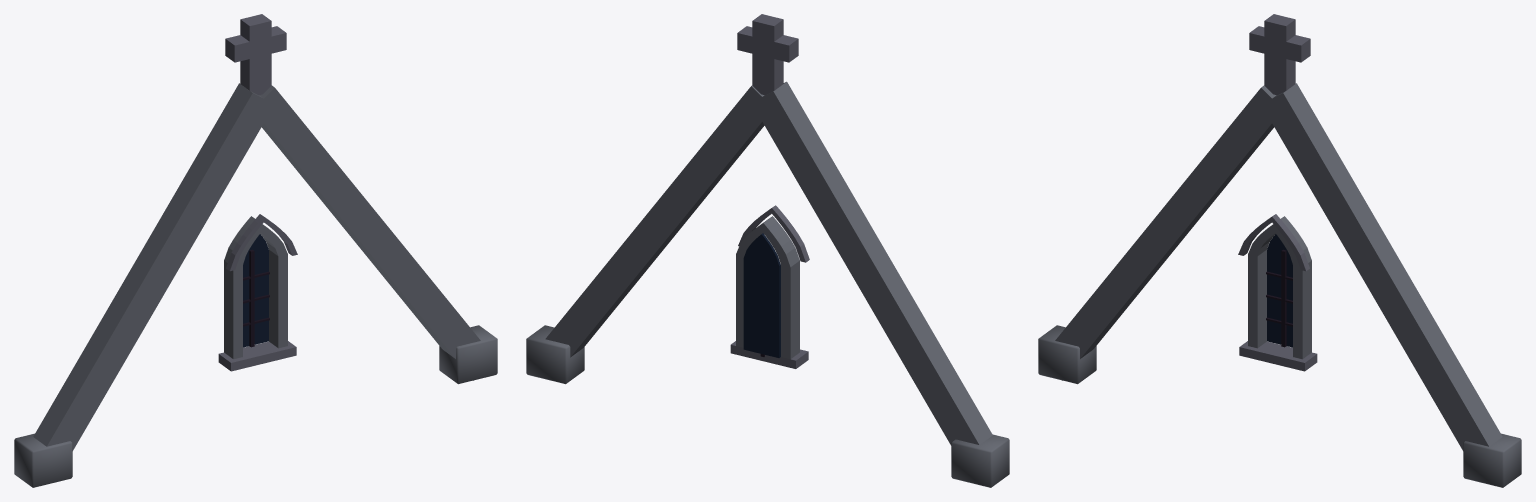
Rendered from kit_church_gable_w3.glb.
3 views of the same model, side by side, from view 1: azimuth 30°, elevation 25°; view 2: azimuth 150°, elevation 25°; view 3: azimuth 330°, elevation 25° (orthographic).
Parts seen in each view (by area): view 1: kit_church_gable_w3; view 2: kit_church_gable_w3; view 3: kit_church_gable_w3.
Part boxes in pixels (x1,y1,x2,y2): kit_church_gable_w3: [14, 14, 497, 487]; kit_church_gable_w3: [526, 14, 1009, 487]; kit_church_gable_w3: [1038, 14, 1521, 487].
Bounding box in the file's own units: 3.42 × 2.85 × 0.24.
